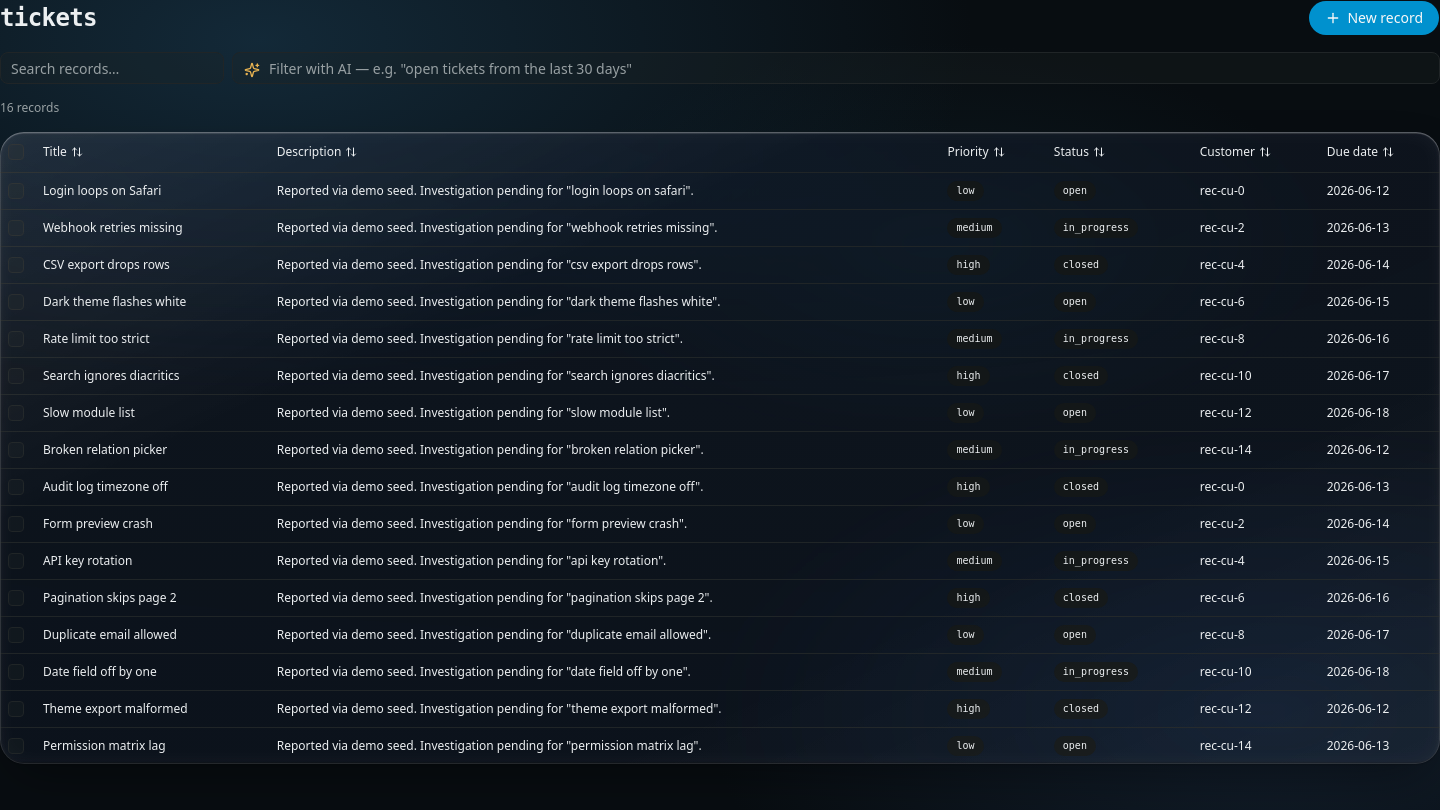
Test case: DataPage › search filters rows
Type "Safari" into the field with placeholder "Search records…". click: point(112, 68)
box: [0,52,224,84]
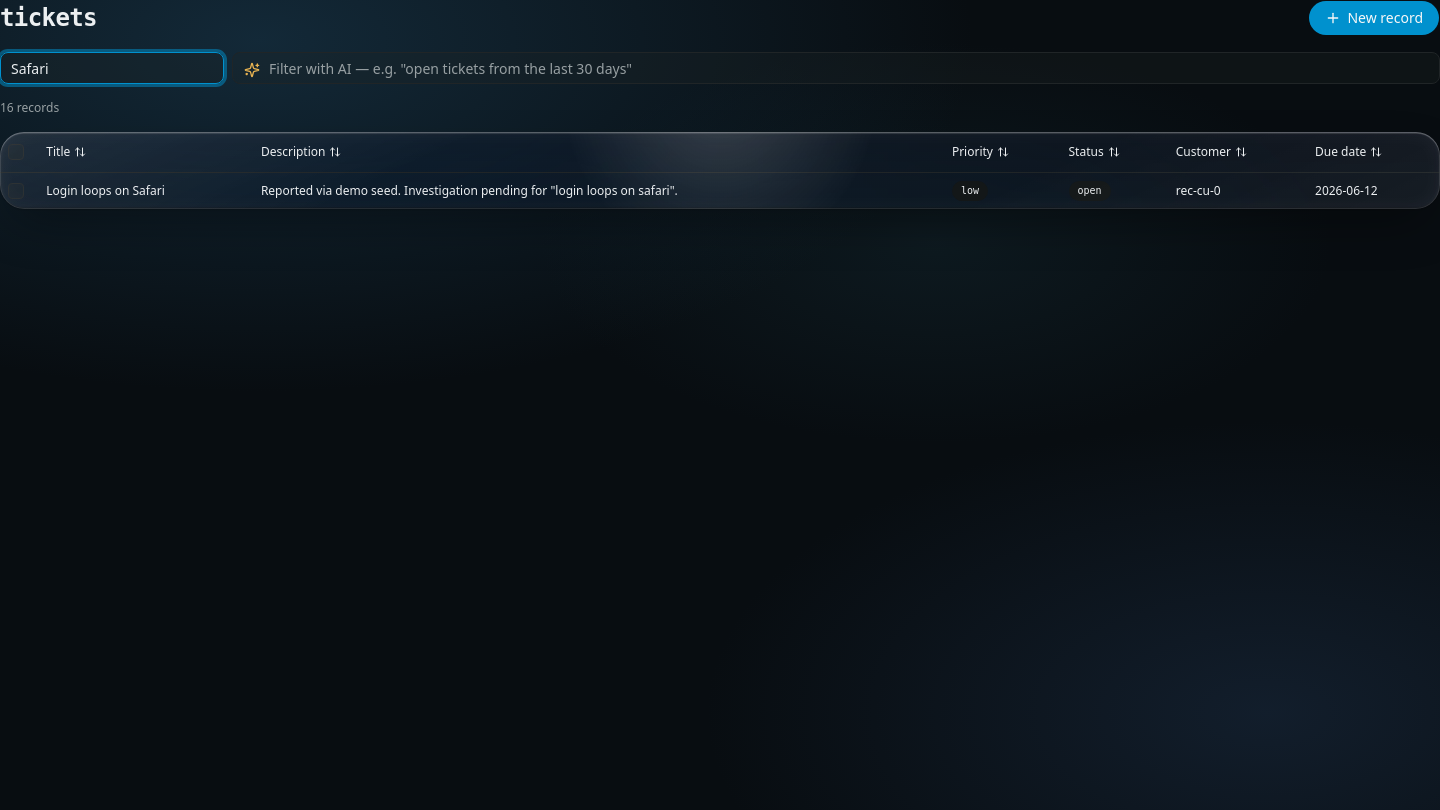
Now the number of rows is 2, box [0,132,1439,172]; [0,172,1439,208]
